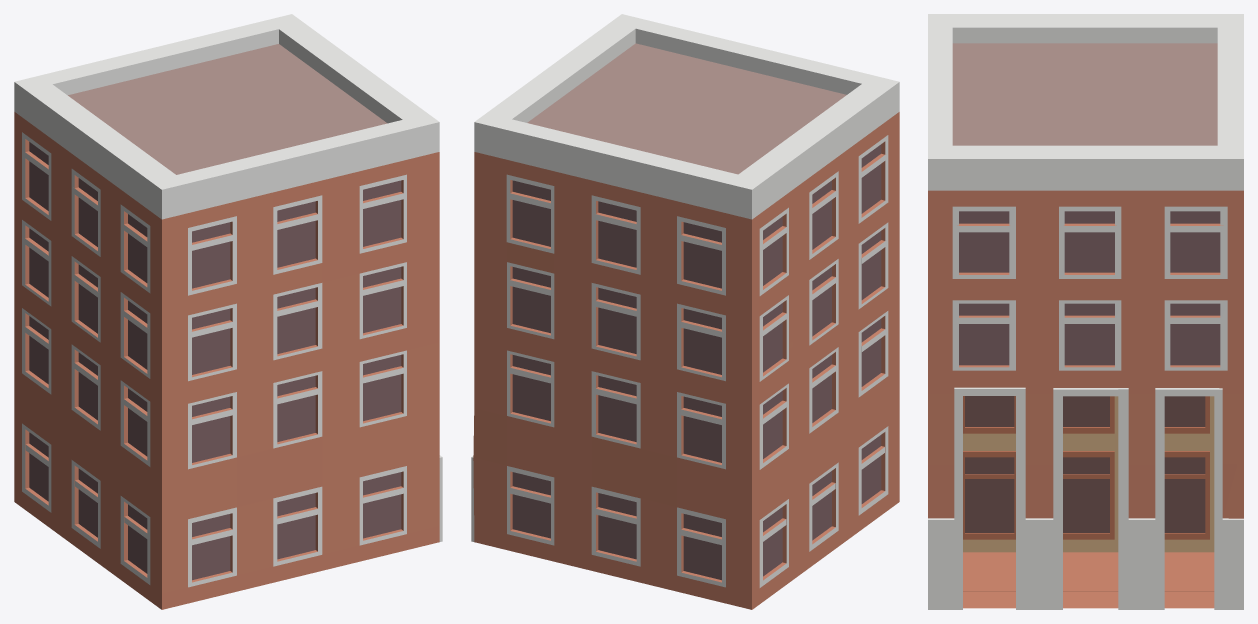
Rendered from Low_Poly_Palace.glb.
3 views of the same model, side by side, from view 1: azimuth 30°, elevation 25°; view 2: azimuth 150°, elevation 25°; view 3: azimuth 270°, elevation 25° (orthographic). The views are drawn at different scales.
Parts seen in each view (by area): view 1: Cube_Material.003_0, Cube_Material_0, Cube.001_Material_0, Cube.002_Material_0, Cube.003_Material_0, Cube.004_Material_0; view 2: Cube_Material.003_0, Cube_Material_0, Cube.002_Material_0, Cube.001_Material_0, Cube.004_Material_0, Cube.003_Material_0; view 3: Cube_Material.003_0, Cube_Material_0, Cube.011_Material.003_0, Cube.012_Material.003_0, Cube.009_Material.019_0, Cube.010_Material.021_0, Cube.009_Material.018_0, Cube.010_Material.020_0.
Boxes of the visible parts, box(x1,y1,x2,y2) form: Cube_Material.003_0: box(14, 44, 439, 609); Cube_Material_0: box(14, 14, 442, 587); Cube.001_Material_0: box(190, 487, 405, 545); Cube.002_Material_0: box(190, 367, 405, 425); Cube.003_Material_0: box(190, 279, 405, 337); Cube.004_Material_0: box(190, 193, 405, 251); Cube_Material.003_0: box(473, 43, 899, 609); Cube_Material_0: box(471, 14, 899, 587); Cube.002_Material_0: box(508, 367, 723, 425); Cube.001_Material_0: box(508, 487, 723, 545); Cube.004_Material_0: box(508, 193, 723, 251); Cube.003_Material_0: box(508, 279, 723, 337); Cube_Material.003_0: box(928, 43, 1243, 608); Cube_Material_0: box(928, 14, 1243, 609); Cube.011_Material.003_0: box(963, 451, 1209, 539); Cube.012_Material.003_0: box(963, 396, 1209, 433); Cube.009_Material.019_0: box(957, 226, 1223, 232); Cube.010_Material.021_0: box(957, 317, 1223, 323); Cube.009_Material.018_0: box(957, 223, 1223, 225); Cube.010_Material.020_0: box(959, 315, 1220, 317).
Size of the model in its own units: 1305 by 1865 by 1188.
2 materials, 2 textured.
